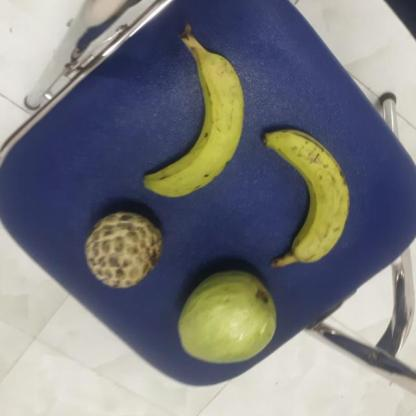annona: (79, 210, 161, 290)
banana: (138, 45, 244, 195), (259, 132, 349, 270)
guava: (178, 268, 278, 368)
